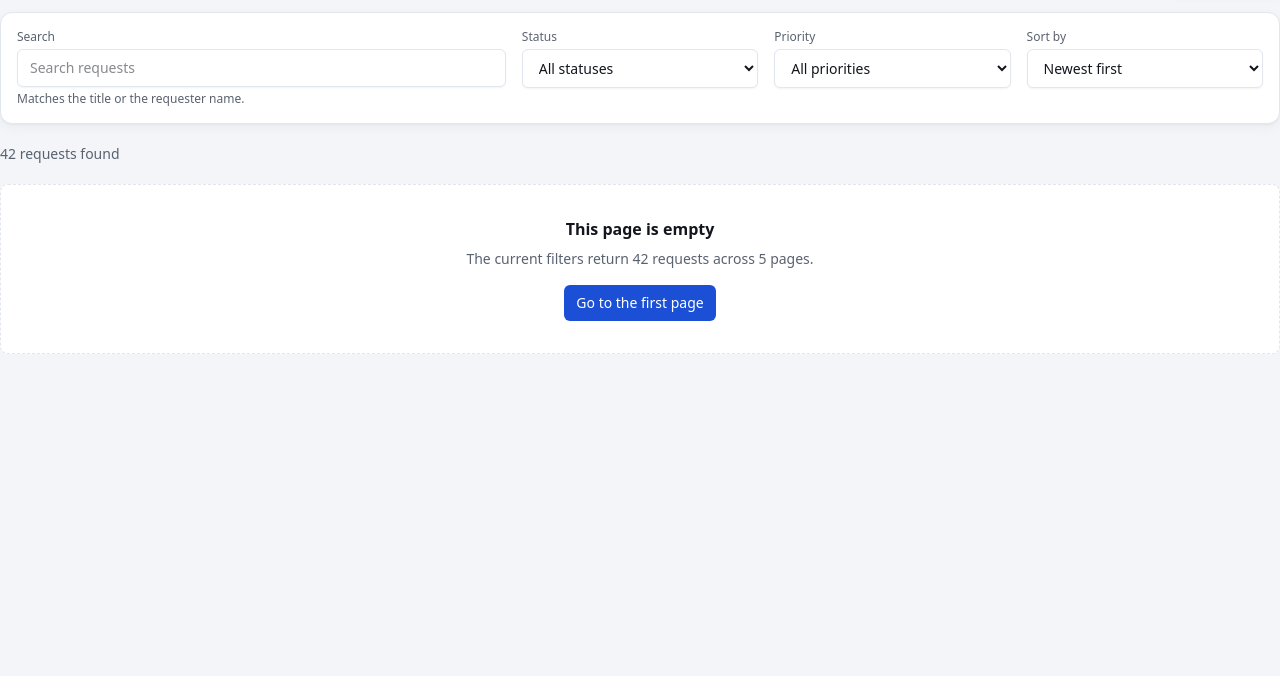
Scenario: RequestsListPage › rescues a page number that is past the end of the result set
Check: the heading "This page is empty" is shown, box [566,218,714,240]
Check: the text "The current filters return 42 requests across 5 pages." is shown, box [466,249,814,268]
Click the button "Go to the first page". click: (640, 303)
box: [564,285,716,321]
(page scrolled)
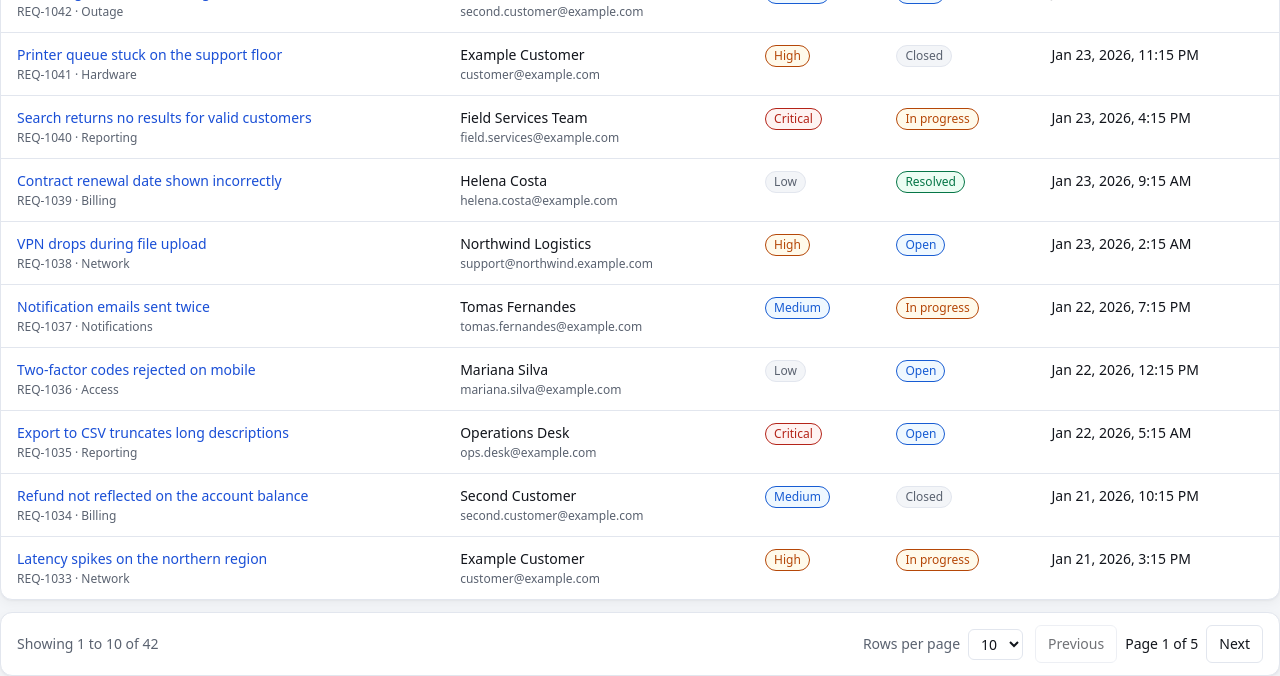
Check: the text "Showing 1 to 10 of 42" is shown, box [17,634,158,654]
